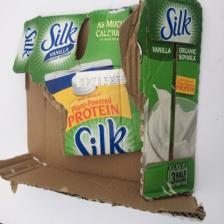cardboard: (8, 3, 207, 224)
